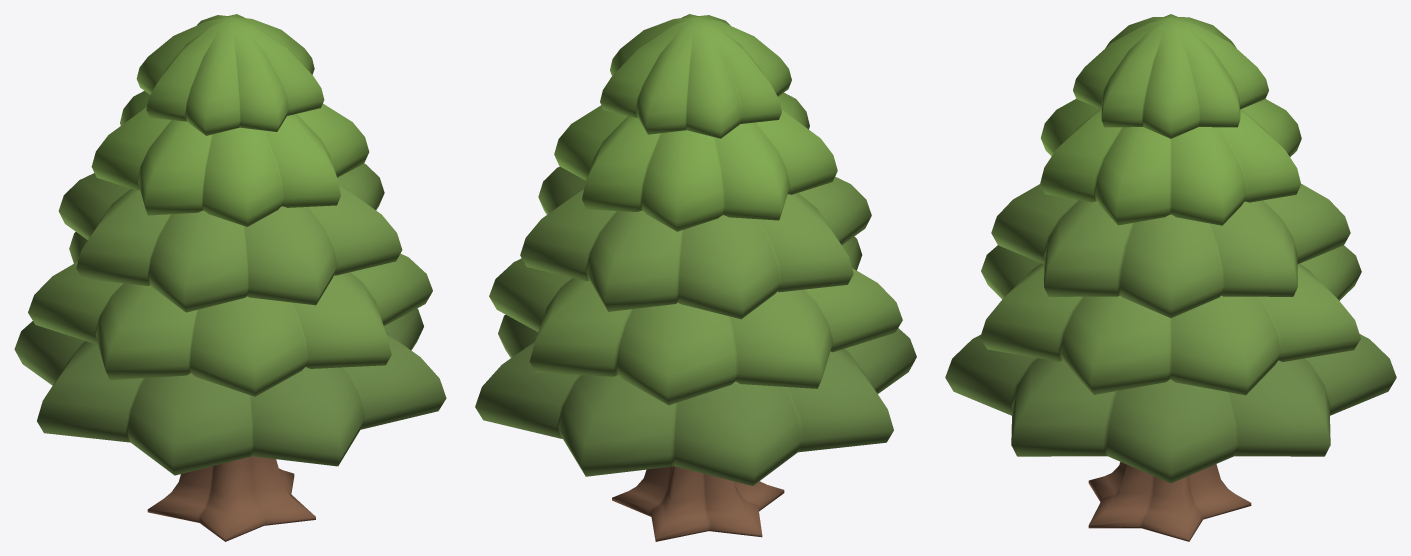
File: tree 2.fbx
3 views of the same model, side by side, from view 1: azimuth 30°, elevation 25°; view 2: azimuth 150°, elevation 25°; view 3: azimuth 270°, elevation 25° (orthographic). The views are drawn at different scales.
Visible parts, largest first — view 1: Circle, Circle.003, Circle.004, Circle.005, Circle.006, pine trunk.001; view 2: Circle, Circle.003, Circle.004, Circle.005, Circle.006, pine trunk.001; view 3: Circle, Circle.003, Circle.004, Circle.005, Circle.006, pine trunk.001.
Boxes of the visible parts, x1,y1,x2,y2 form: Circle: [14, 308, 446, 475]; Circle.003: [28, 232, 432, 396]; Circle.004: [58, 163, 402, 312]; Circle.005: [91, 91, 369, 226]; Circle.006: [136, 14, 324, 135]; pine trunk.001: [147, 456, 315, 541]; Circle: [475, 314, 916, 485]; Circle.003: [489, 236, 902, 405]; Circle.004: [520, 166, 871, 319]; Circle.005: [554, 92, 837, 231]; Circle.006: [600, 14, 791, 138]; pine trunk.001: [612, 466, 784, 541]; Circle: [945, 334, 1396, 483]; Circle.003: [980, 245, 1361, 395]; Circle.004: [991, 183, 1350, 317]; Circle.005: [1040, 99, 1301, 225]; Circle.006: [1073, 14, 1268, 138]; pine trunk.001: [1088, 462, 1251, 541].
Bounding box in the file's own units: 2652 × 3159 × 2652.
